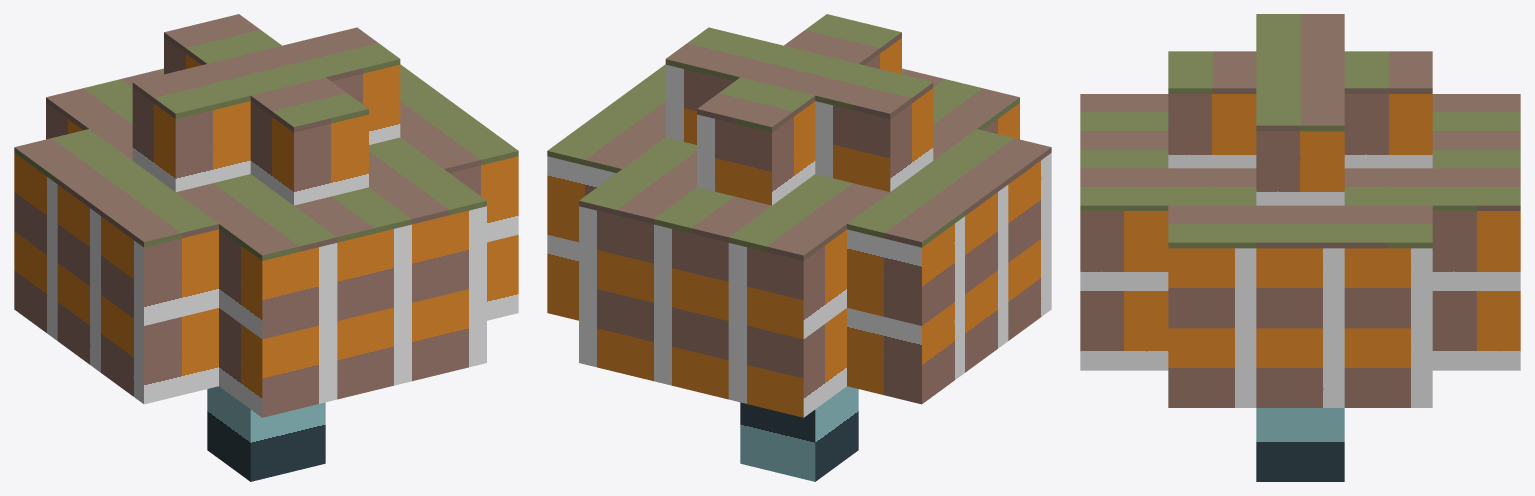
Rendered from tree2_snow.fbx.
3 views of the same model, side by side, from view 1: azimuth 30°, elevation 25°; view 2: azimuth 150°, elevation 25°; view 3: azimuth 270°, elevation 25° (orthographic).
Parts seen in each view (by area): view 1: polySurface325, polySurface338; view 2: polySurface325, polySurface338; view 3: polySurface325, polySurface338.
Boxes of the visible parts, bbox=[...] form: polySurface325: bbox=[14, 14, 518, 417]; polySurface338: bbox=[207, 386, 325, 481]; polySurface325: bbox=[547, 14, 1051, 417]; polySurface338: bbox=[740, 386, 858, 481]; polySurface325: bbox=[1080, 14, 1520, 407]; polySurface338: bbox=[1256, 408, 1344, 481].
Size of the model in its own units: 10.37 by 10.22 by 10.37.
